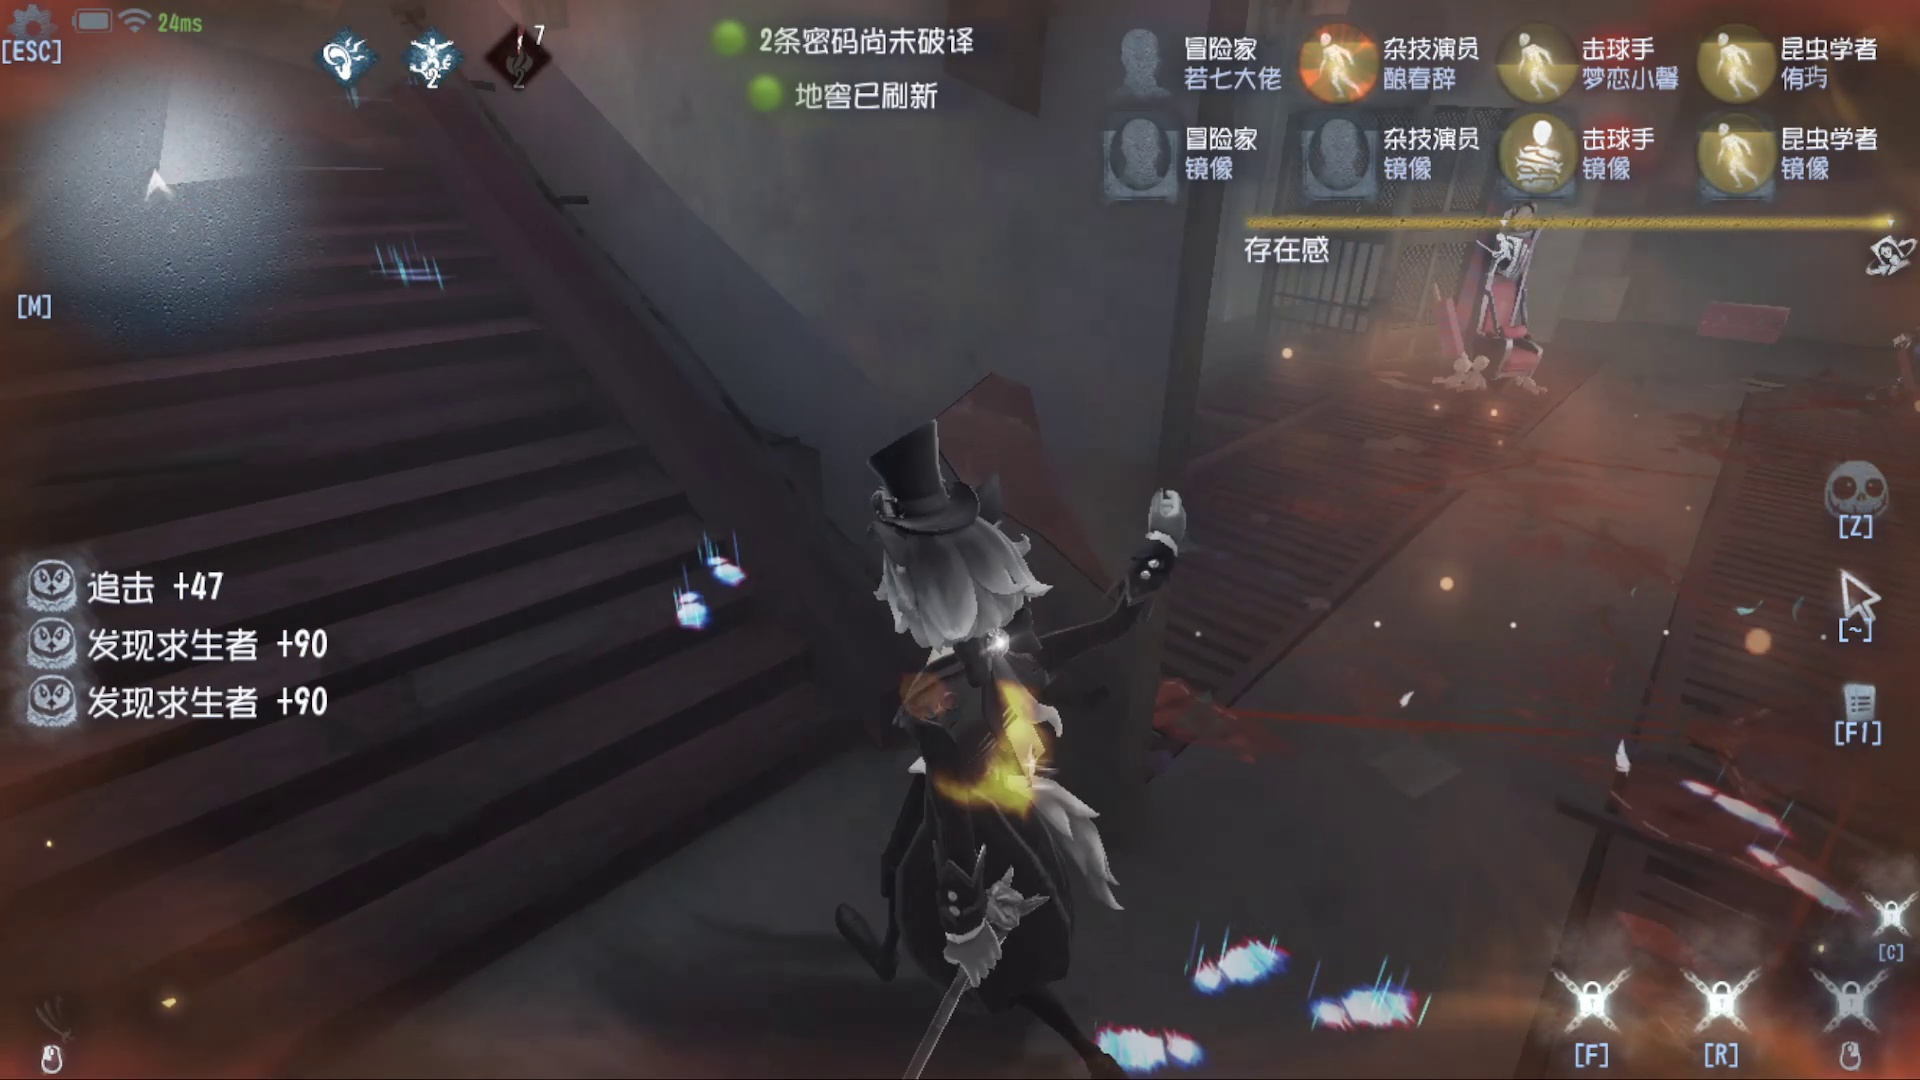狂欢之椅: (1432, 190, 1565, 429)
